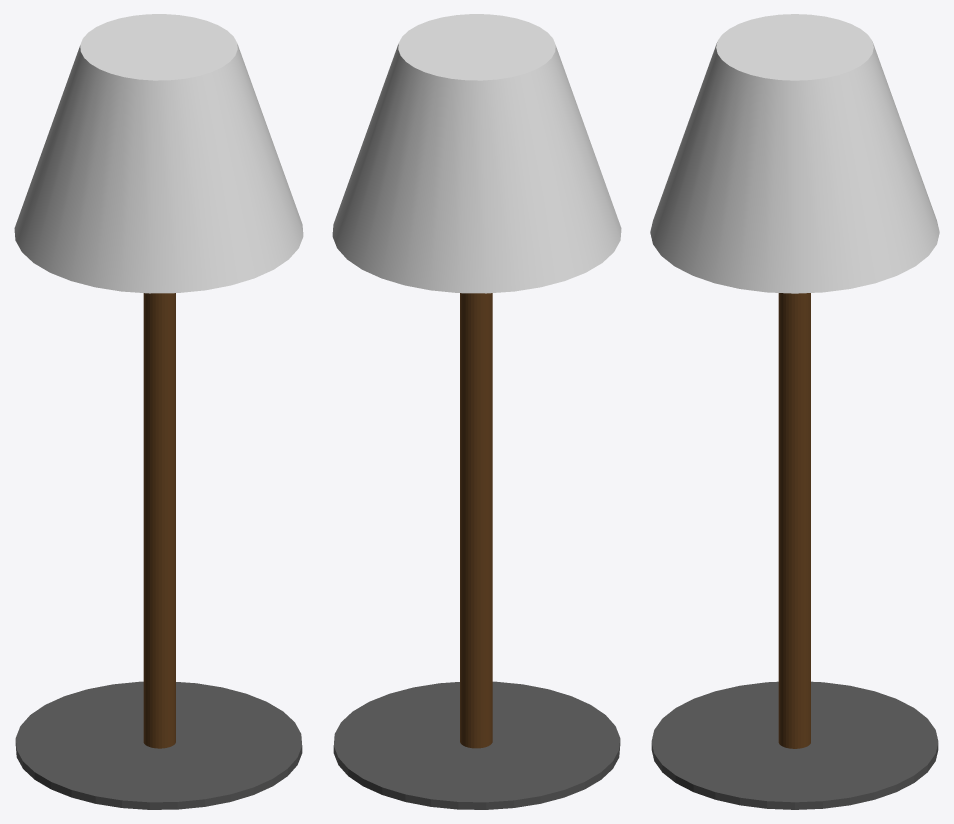
Rendered from lampu.fbx.
3 renders of one model, left to right at view 1: azimuth 30°, elevation 25°; view 2: azimuth 150°, elevation 25°; view 3: azimuth 270°, elevation 25°, orthographic.
Parts seen in each view (by area): view 1: Cylinder.116, Cylinder.115, Cylinder.114; view 2: Cylinder.116, Cylinder.115, Cylinder.114; view 3: Cylinder.116, Cylinder.115, Cylinder.114.
Part boxes in pixels (x1,y1,x2,y2): Cylinder.116: [14, 14, 303, 293]; Cylinder.115: [15, 681, 302, 809]; Cylinder.114: [143, 293, 175, 748]; Cylinder.116: [332, 14, 621, 293]; Cylinder.115: [333, 681, 620, 809]; Cylinder.114: [460, 293, 492, 748]; Cylinder.116: [650, 14, 939, 293]; Cylinder.115: [651, 681, 938, 809]; Cylinder.114: [778, 293, 810, 748].
Bounding box in the file's own units: 409 × 1093 × 409.
